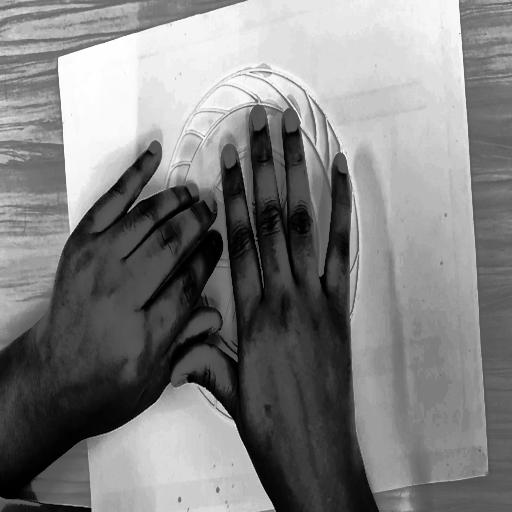bottom_right: (484, 465, 493, 482)
tire: (142, 31, 379, 440)
top_left: (55, 52, 62, 68)
